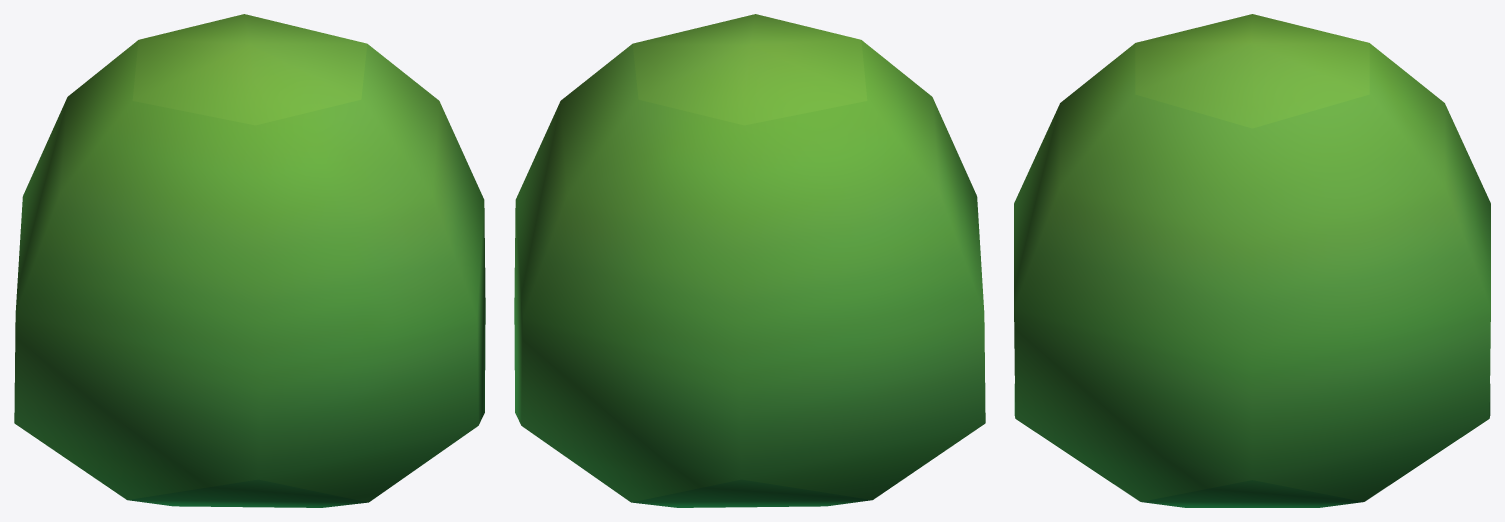
The model's file is Bush_1_A_Color1.glb.
The picture shows the model from 3 angles, left to right: view 1: azimuth 30°, elevation 25°; view 2: azimuth 150°, elevation 25°; view 3: azimuth 270°, elevation 25°; orthographic projection.
Visible parts, largest first — view 1: Bush_1_A_Color1; view 2: Bush_1_A_Color1; view 3: Bush_1_A_Color1.
Part boxes in pixels (left/top/right/bottom): Bush_1_A_Color1: left=14, top=14, right=485, bottom=507; Bush_1_A_Color1: left=514, top=14, right=985, bottom=507; Bush_1_A_Color1: left=1014, top=14, right=1490, bottom=507.
Size of the model in its own units: 0.2672 by 0.2267 by 0.2341.
1 material, 1 textured.
